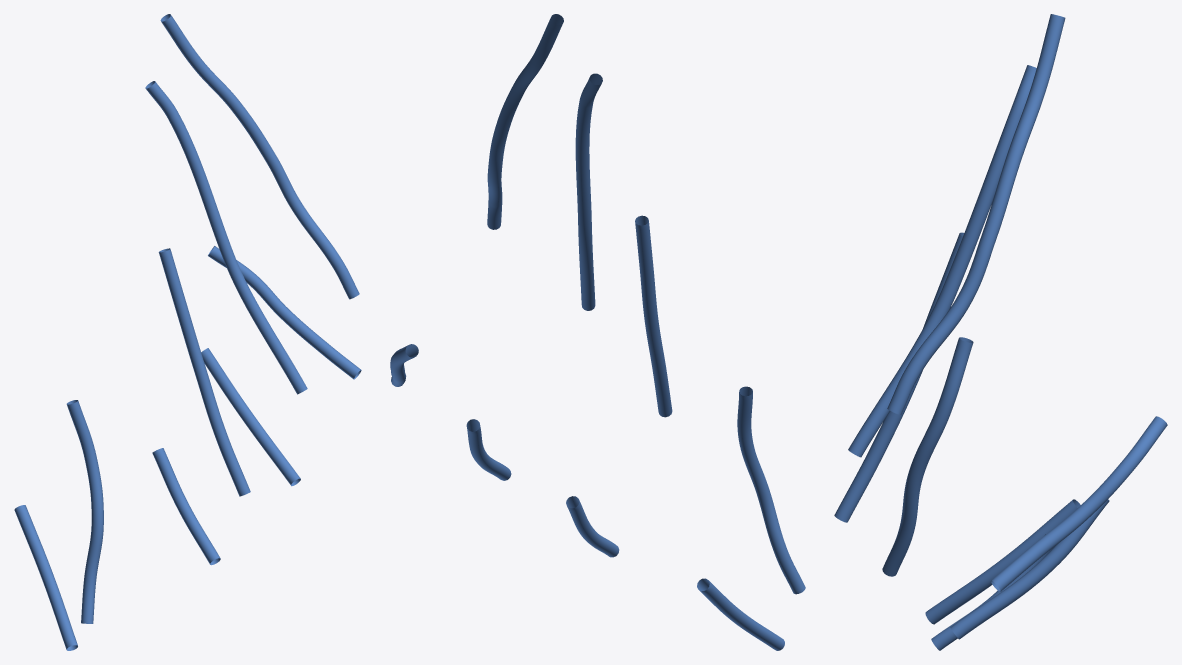
3 renders of one model, left to right at view 1: azimuth 30°, elevation 25°; view 2: azimuth 150°, elevation 25°; view 3: azimuth 270°, elevation 25°, orthographic. The views are drawn at different scales.
Visible parts, largest first — view 1: 左侧跖骨头间静脉; view 2: 左侧跖骨头间静脉; view 3: 左侧跖骨头间静脉.
Part boxes in pixels (bbox=[...]): 左侧跖骨头间静脉: bbox=[14, 14, 361, 650]; 左侧跖骨头间静脉: bbox=[390, 14, 805, 650]; 左侧跖骨头间静脉: bbox=[834, 14, 1167, 650].
Bounding box in the file's own units: 0.0623 × 0.104 × 0.045.
